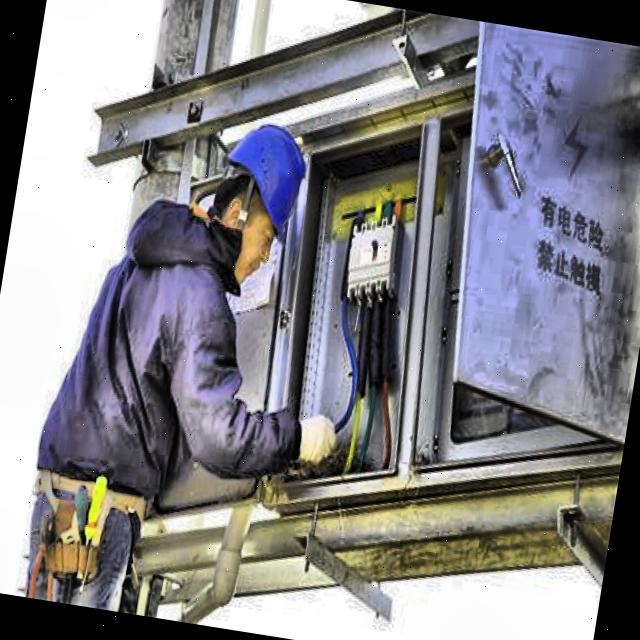helmet: (204, 106, 324, 278)
